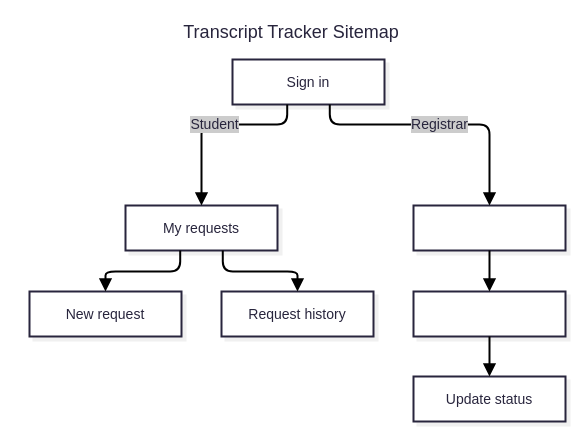
The diagram is 587 pixels wide and 443 high, and some of its shapes have lost their labels. Each missing label, with the centre of its shape:
Request details: the point at 491,315
Review queue: the point at 491,229
